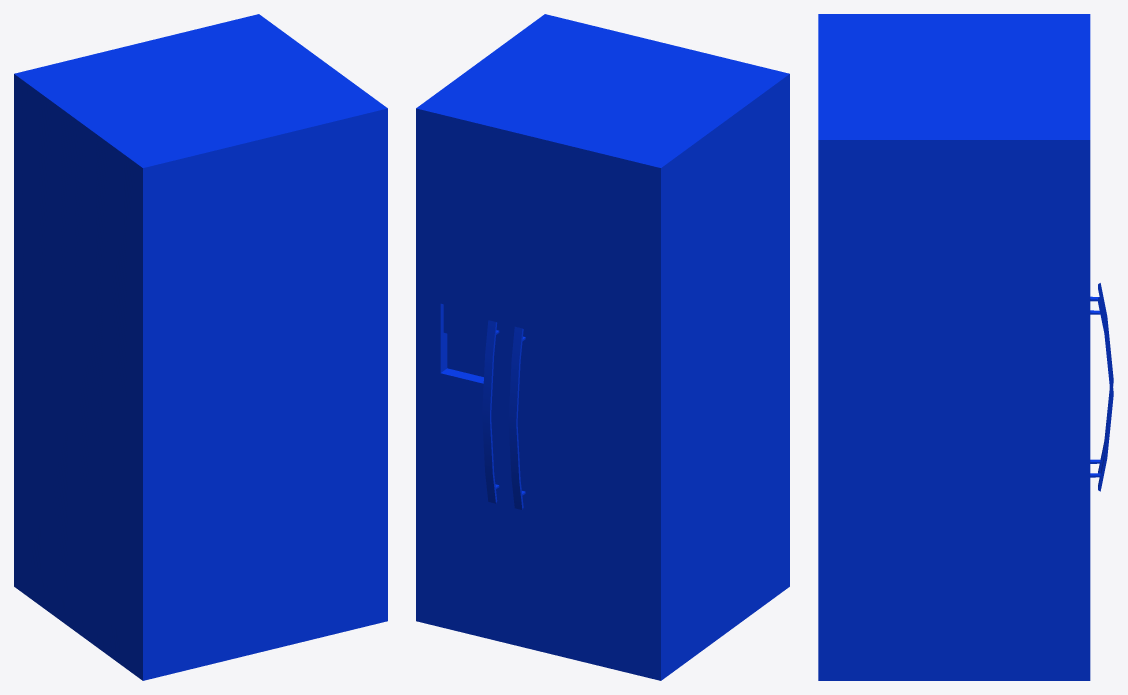
Rendered from Fridge.FBX.
3 views of the same model, side by side, from view 1: azimuth 30°, elevation 25°; view 2: azimuth 150°, elevation 25°; view 3: azimuth 270°, elevation 25° (orthographic). The views are drawn at different scales.
Parts seen in each view (by area): view 1: Fridge; view 2: Fridge; view 3: Fridge.
Part boxes in pixels (left/top/right/bottom): Fridge: left=14, top=14, right=387, bottom=680; Fridge: left=416, top=14, right=789, bottom=680; Fridge: left=818, top=14, right=1113, bottom=680.
Bounding box in the file's own units: 1.15 × 2.31 × 1.14.
